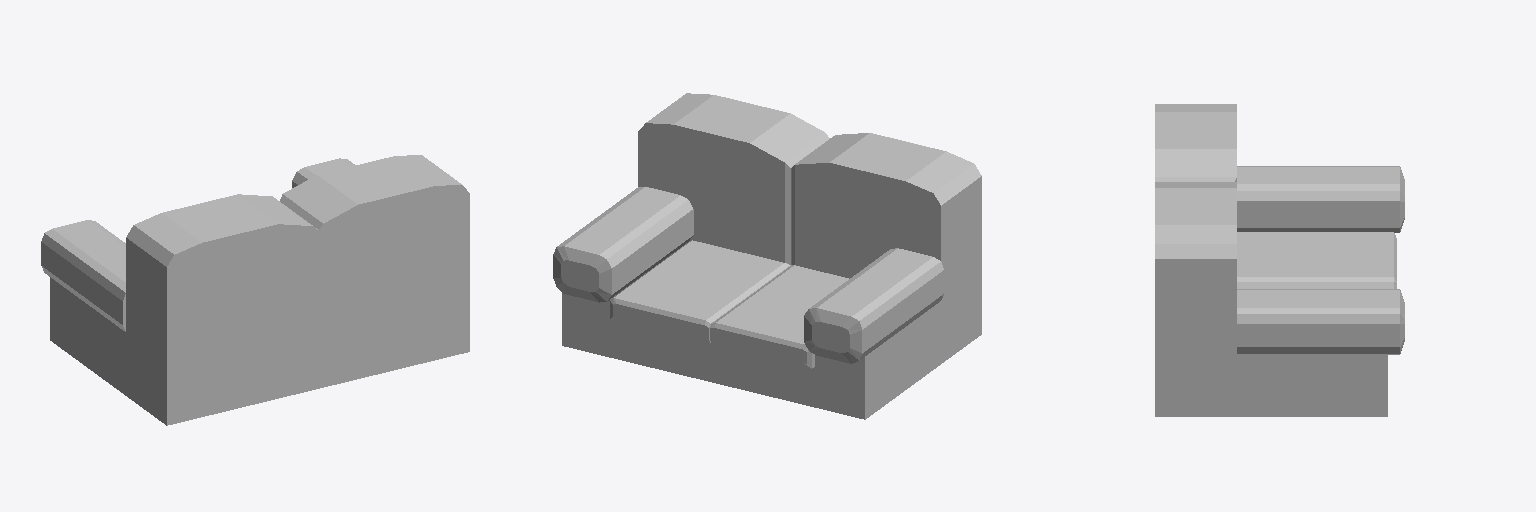
Rendered from unity_sofa.obj.
The picture shows the model from 3 angles: view 1: azimuth 30°, elevation 25°; view 2: azimuth 150°, elevation 25°; view 3: azimuth 270°, elevation 25°; orthographic projection.
Visible parts, largest first — view 1: cuboid; view 2: cuboid; view 3: cuboid.
Boxes of the visible parts, box(x1,y1,x2,y2) form: cuboid: box(41, 155, 469, 425); cuboid: box(553, 93, 981, 419); cuboid: box(1155, 104, 1404, 416).
Bounding box in the file's own units: 1.91 × 1.03 × 1.34.